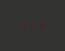nine: (18, 20, 26, 31), (28, 20, 36, 30)
six: (37, 19, 45, 30)
